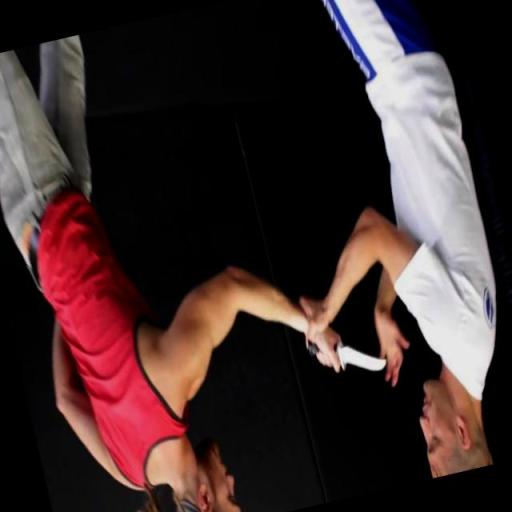knife: (302, 322, 396, 401)
